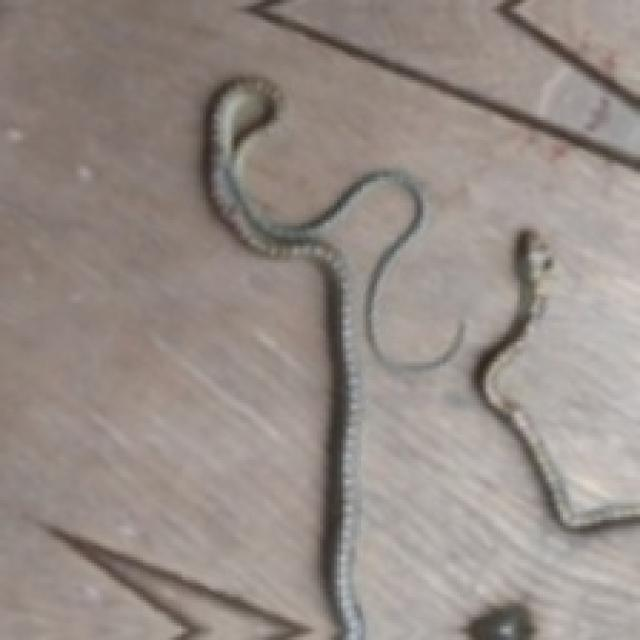paradise tree snake: (203, 77, 423, 637), (474, 229, 637, 526)
